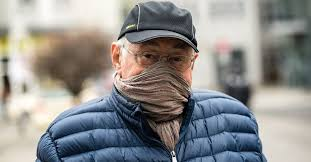mask: (118, 4, 194, 119)
